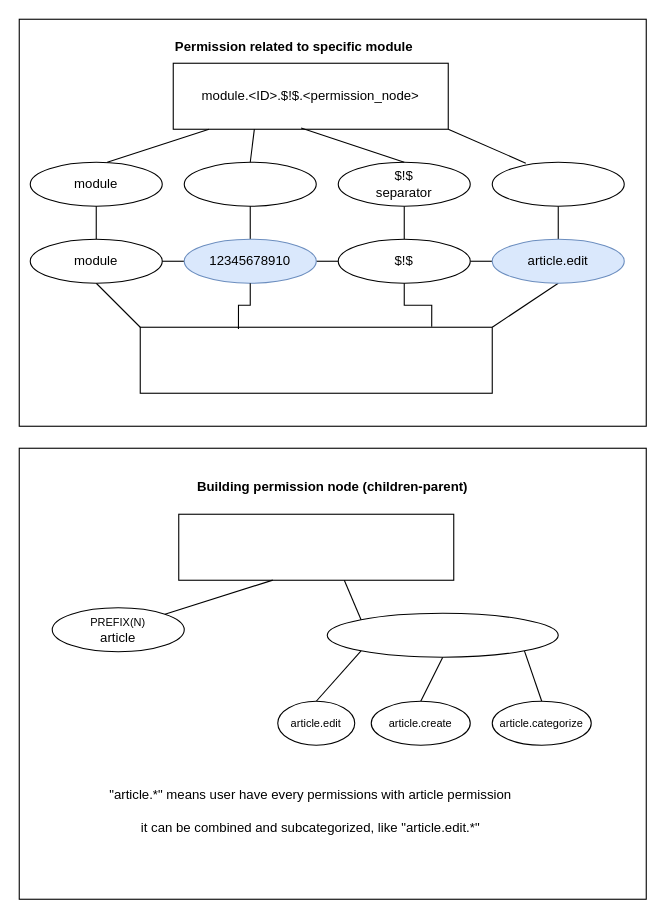
The diagram is 666 pixels wide and 919 high, and some of its shapes have lost their labels. The centre of each missing label's shape, as x and y in pixels:
ALL PERMISSIONS CHAR *: point 442,634
article.*: point 316,546
ID of moduile: point 249,183
permission node module: point 557,183
Result node: module.12345678910.$!$.article.edit: point 315,359
